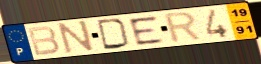4: (204, 8, 230, 39)
B: (25, 25, 61, 57)
D: (95, 18, 131, 51)
E: (127, 14, 167, 47)
N: (58, 19, 96, 55)
R: (163, 10, 205, 45)
